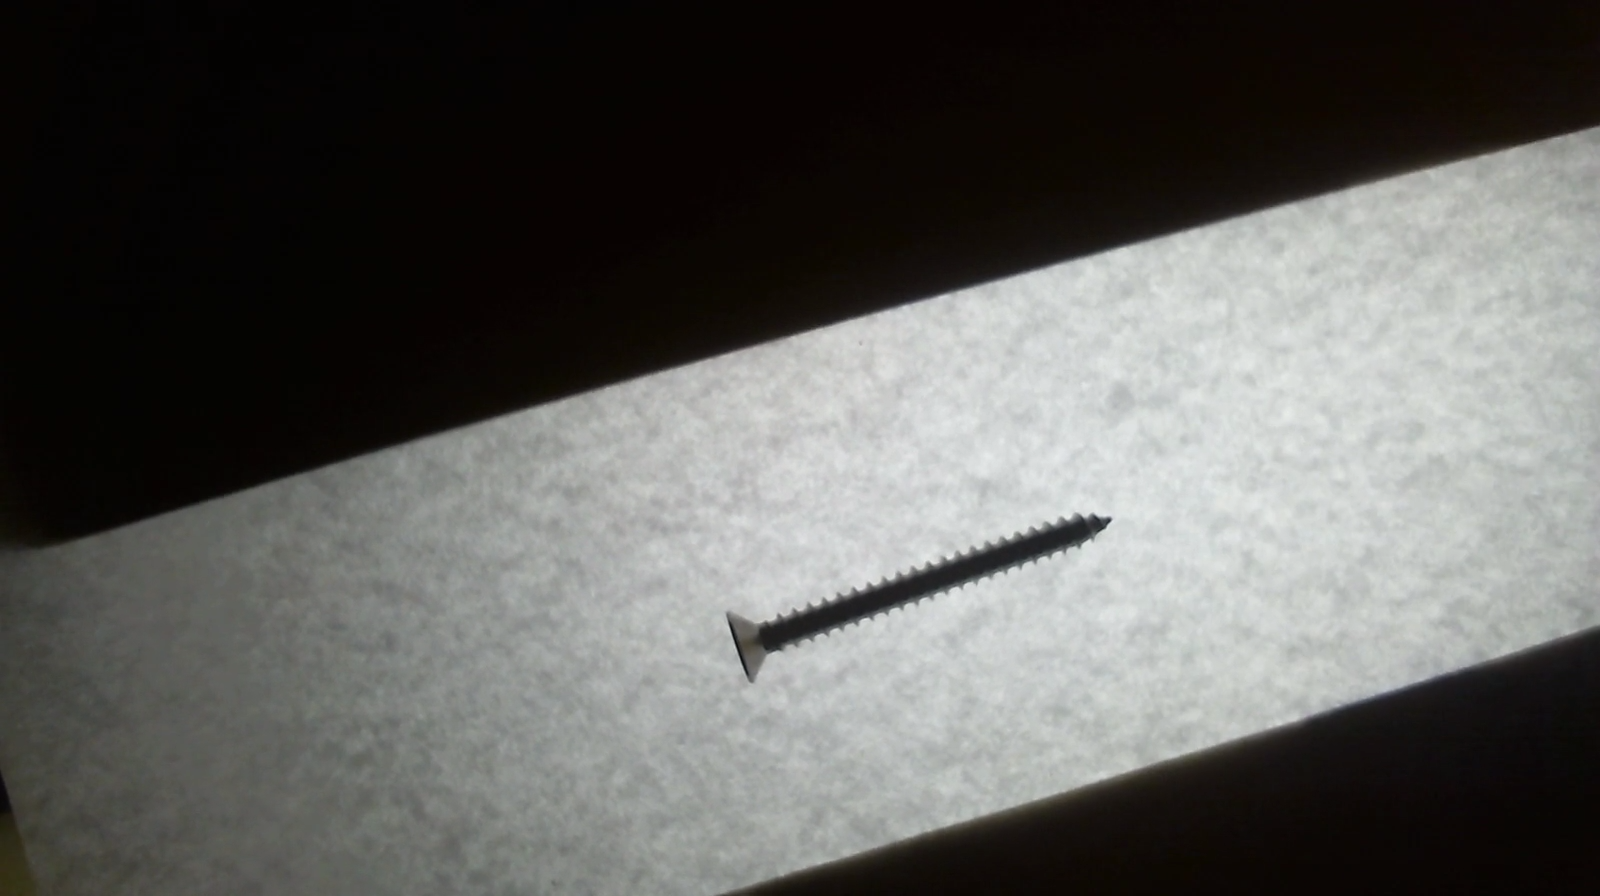S002: (701, 486, 1129, 696)
